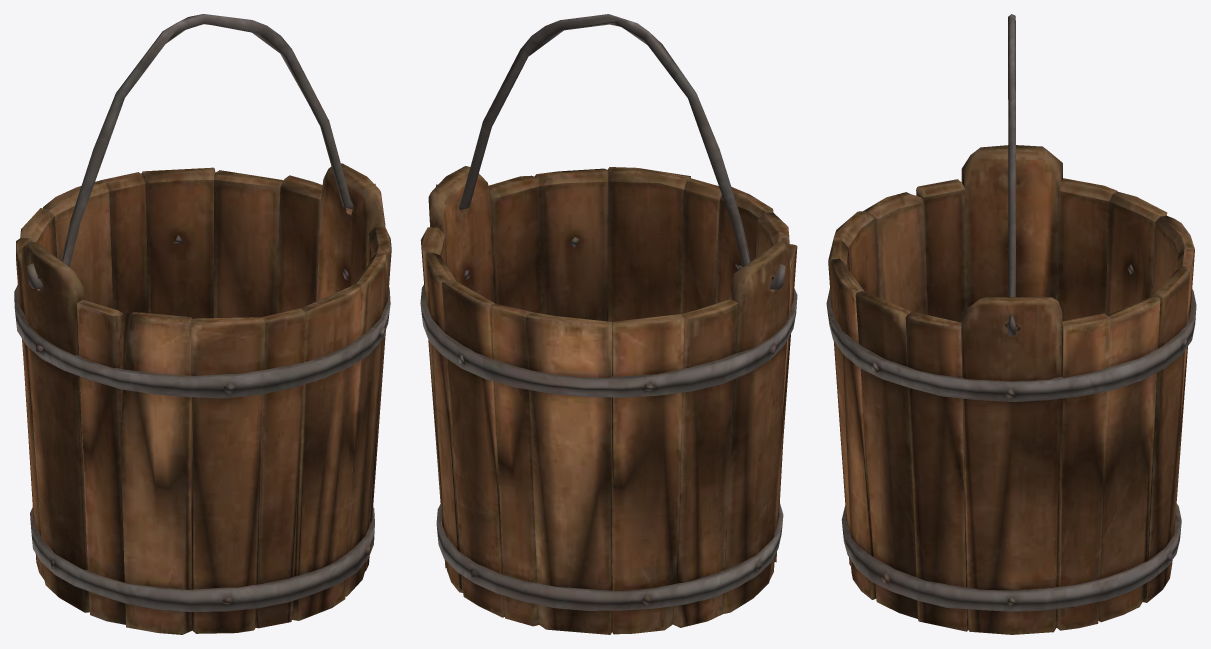
The model's file is wooden_bucket_01.glb.
3 renders of one model, left to right at view 1: azimuth 30°, elevation 25°; view 2: azimuth 150°, elevation 25°; view 3: azimuth 270°, elevation 25°, orthographic.
Visible parts, largest first — view 1: wooden_bucket_01; view 2: wooden_bucket_01; view 3: wooden_bucket_01.
Part boxes in pixels (x1=…): wooden_bucket_01: x1=14, y1=14, x2=391, y2=634; wooden_bucket_01: x1=420, y1=14, x2=797, y2=634; wooden_bucket_01: x1=826, y1=14, x2=1196, y2=634.
Size of the model in its own units: 0.3664 by 0.5493 by 0.3406.
Materials: 1 (1 with a texture image).
